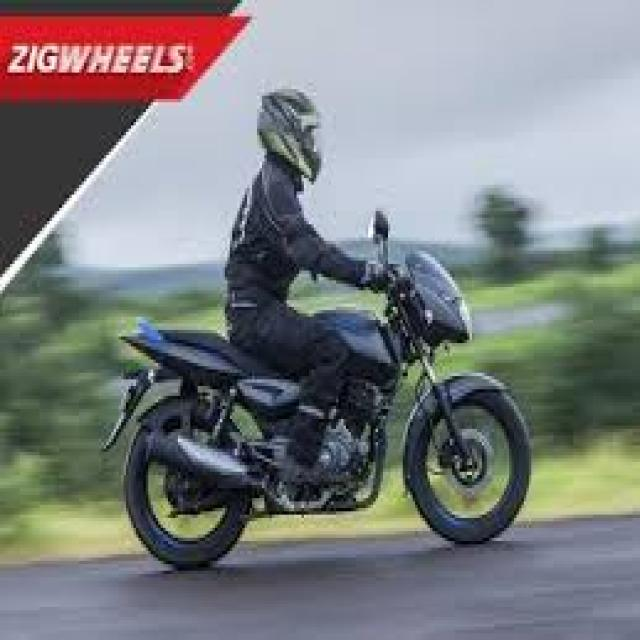bike: (105, 213, 527, 528)
